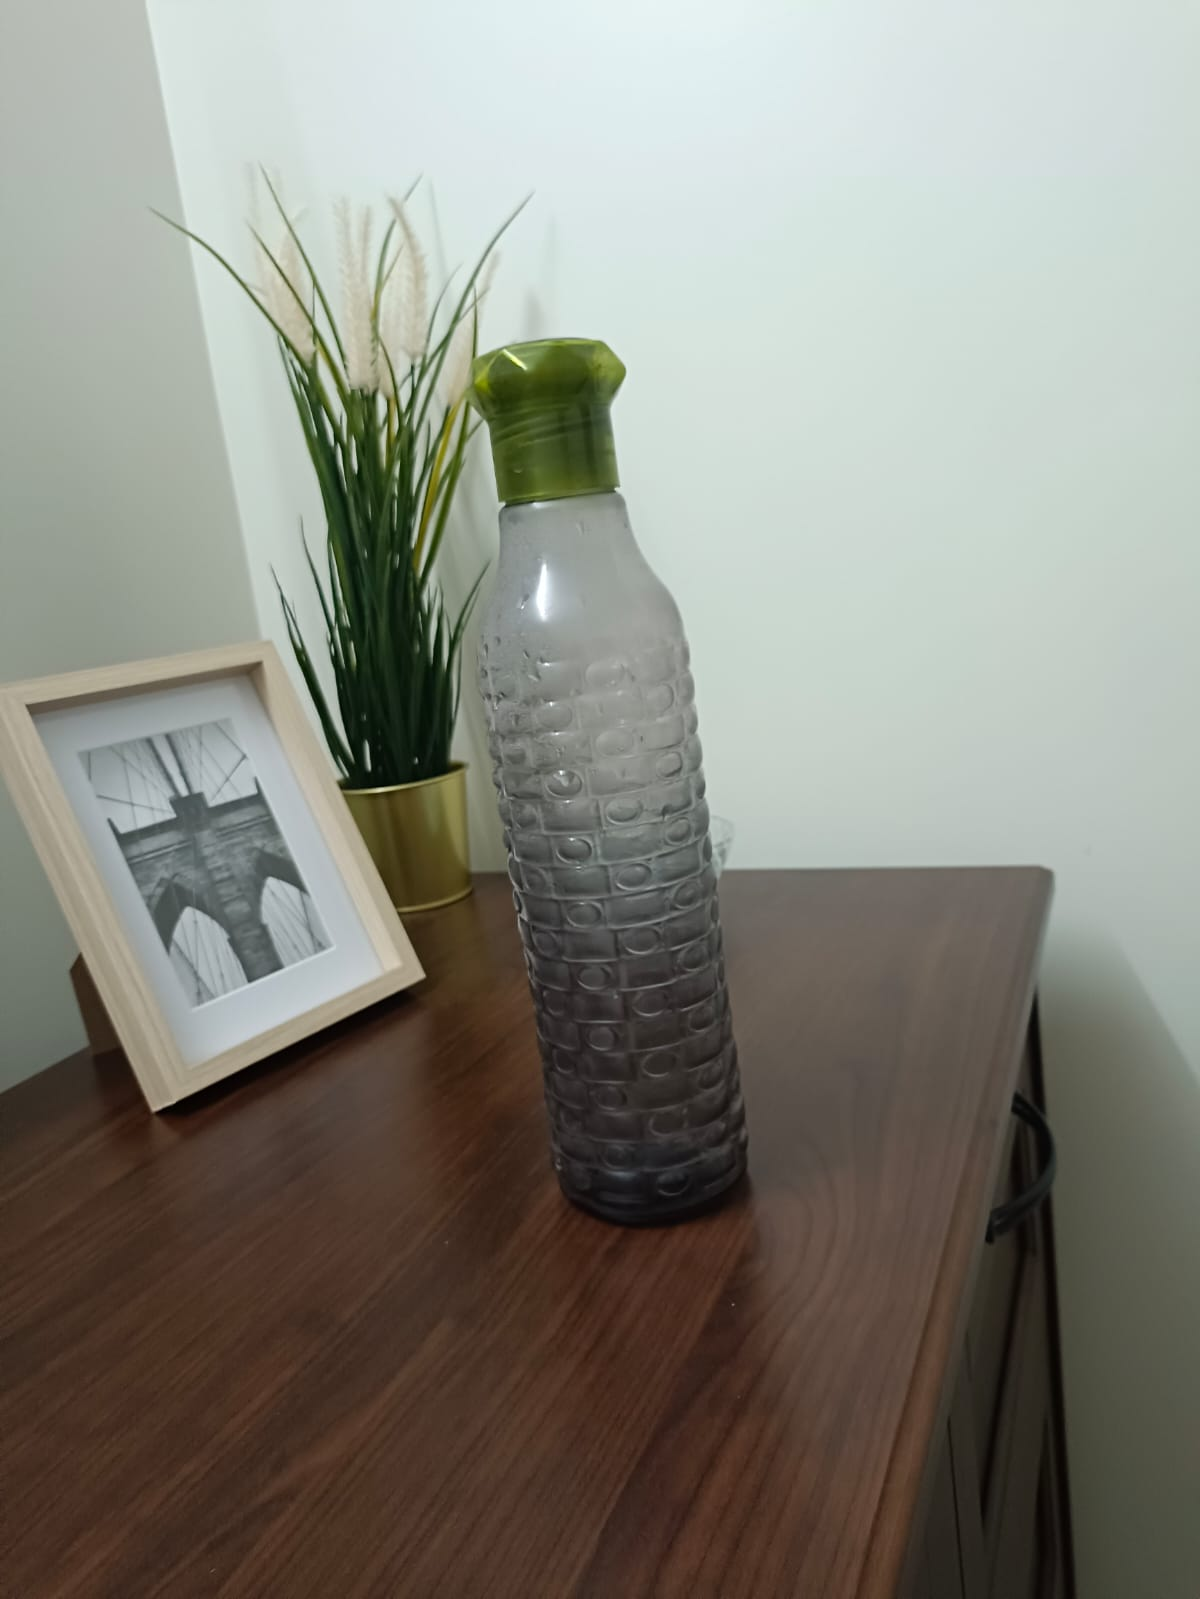bottle: (459, 324, 780, 1241)
